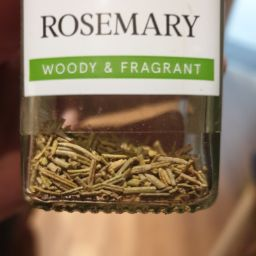Rosemary: (10, 6, 245, 237), (27, 110, 206, 201), (59, 141, 153, 183)
